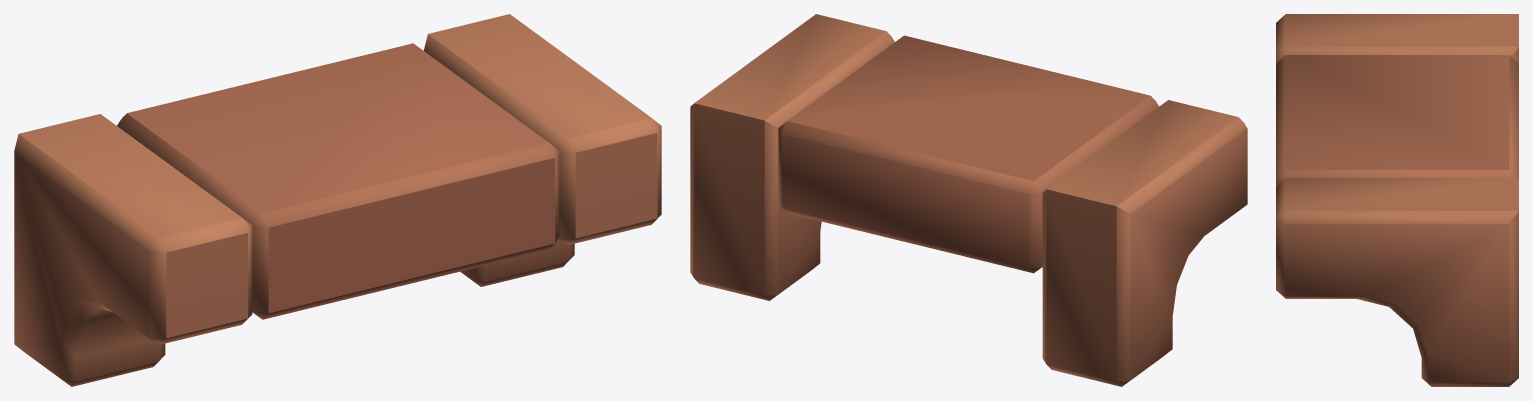
3 renders of one model, left to right at view 1: azimuth 30°, elevation 25°; view 2: azimuth 150°, elevation 25°; view 3: azimuth 270°, elevation 25°, orthographic. The views are drawn at different scales.
Visible parts, largest first — view 1: shelf_A_small; view 2: shelf_A_small; view 3: shelf_A_small.
Part boxes in pixels (x1=…): shelf_A_small: x1=14, y1=14, x2=661, y2=386; shelf_A_small: x1=690, y1=14, x2=1247, y2=386; shelf_A_small: x1=1276, y1=14, x2=1518, y2=386.
Size of the model in its own units: 1 by 0.4 by 0.5.
1 material, 1 textured.
